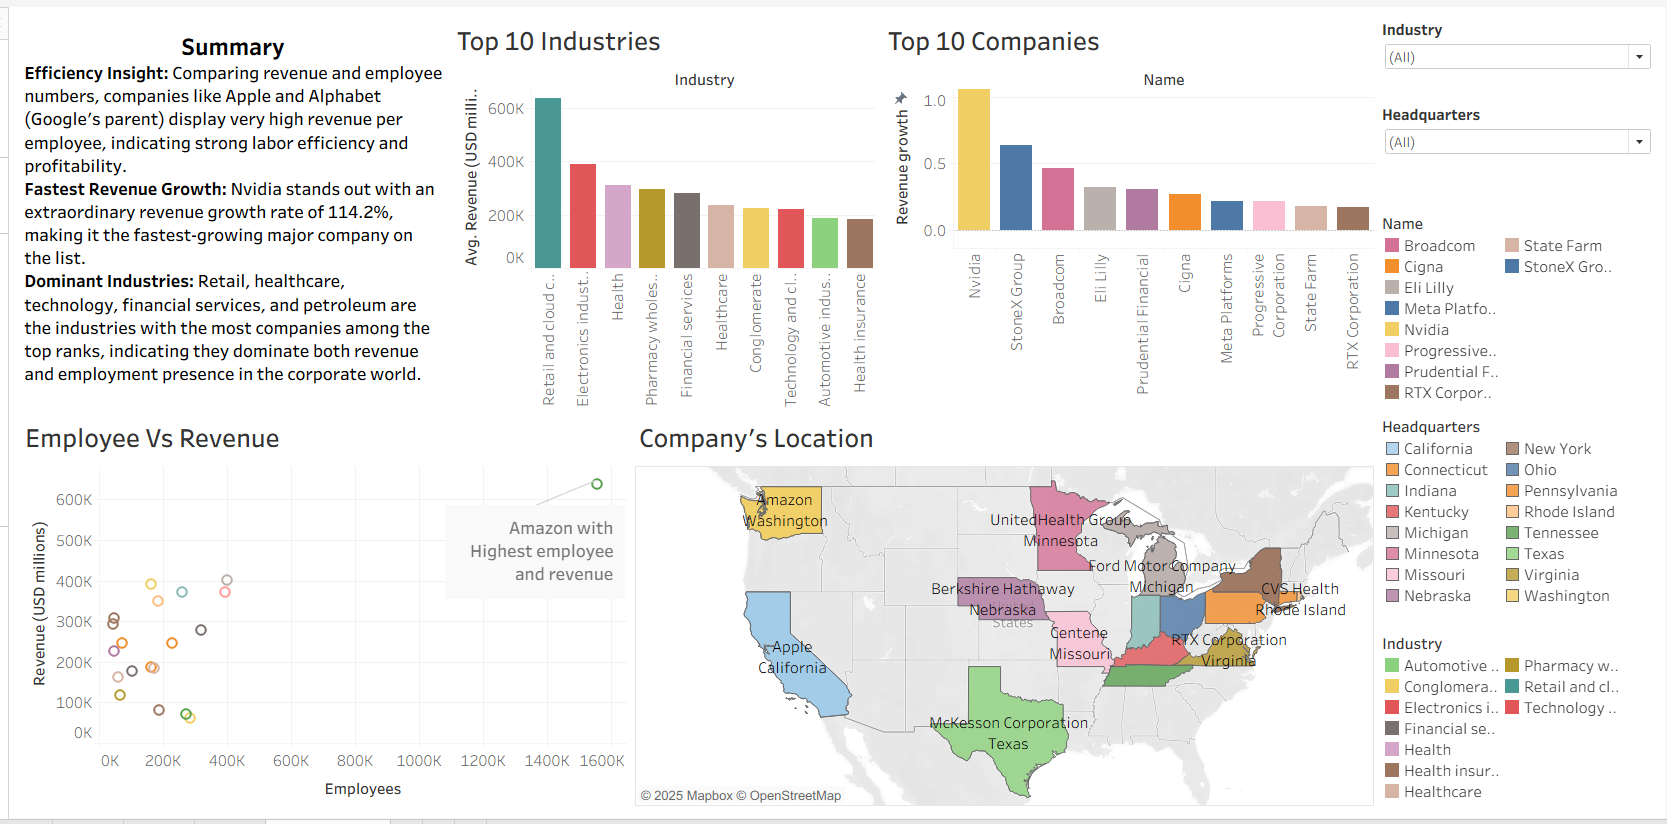

This screenshot's page, from the dashboard's own definition file:
{"tool":"tableau","page":{"name":"Dashboard 1","canvas":[1000,1000],"units":"permille","ordinal":0},"visuals":[{"type":"text","box":[4.7,9.9,262.1,489.5]},{"type":"worksheet","title":"Sheet 1","mark":"Automatic","rows":["Revenue (USD millions)"],"cols":["Industry"],"box":[266.8,9.9,262.1,489.5]},{"type":"worksheet","title":"Sheet 3","mark":"Automatic","rows":["Revenue growth"],"cols":["Name"],"box":[529,9.9,302.3,489.5]},{"type":"filter","title":"Sheet 1","param":"[federated.0n6w75o0r3nzwi1ggbhtc1dmk8lg].[none:Industry:nk]","box":[831.3,9.9,164,104.8]},{"type":"filter","title":"Sheet 1","param":"[federated.0n6w75o0r3nzwi1ggbhtc1dmk8lg].[none:Headquarters - Split 2:nk]","box":[831.3,114.7,164,134.4]},{"type":"legend","title":"Sheet 3","param":"[federated.0n6w75o0r3nzwi1ggbhtc1dmk8lg].[none:Name:nk]","box":[831.3,249.1,164,250.3]},{"type":"worksheet","title":"Sheet 4","mark":"Automatic","rows":["Revenue (USD millions)"],"cols":["Employees"],"box":[4.7,499.4,373.2,490.8]},{"type":"worksheet","title":"Sheet 5","mark":"Multipolygon","box":[377.9,499.4,453.4,490.8]},{"type":"legend","title":"Sheet 5","param":"[federated.0n6w75o0r3nzwi1ggbhtc1dmk8lg].[none:Headquarters - Split 2:nk]","box":[831.3,499.4,164,267.6]},{"type":"legend","title":"Sheet 1","param":"[federated.0n6w75o0r3nzwi1ggbhtc1dmk8lg].[none:Industry:nk]","box":[831.3,767,164,223.2]}]}

Visuals, with their boxes on the dashboard's canvas, which has no fixed pixel size, in thousandths of its width and height (x1, y1, x2, y2). These are canvas units, not pixel positions in the 1667x824 screenshot, which may show the page scaled, cropped or inside an application window:
text: bbox=[5, 10, 267, 499]
"Sheet 1" worksheet: bbox=[267, 10, 529, 499]
"Sheet 3" worksheet: bbox=[529, 10, 831, 499]
"Sheet 1" filter: bbox=[831, 10, 995, 115]
"Sheet 1" filter: bbox=[831, 115, 995, 249]
"Sheet 3" legend: bbox=[831, 249, 995, 499]
"Sheet 4" worksheet: bbox=[5, 499, 378, 990]
"Sheet 5" worksheet (Multipolygon marks): bbox=[378, 499, 831, 990]
"Sheet 5" legend: bbox=[831, 499, 995, 767]
"Sheet 1" legend: bbox=[831, 767, 995, 990]
